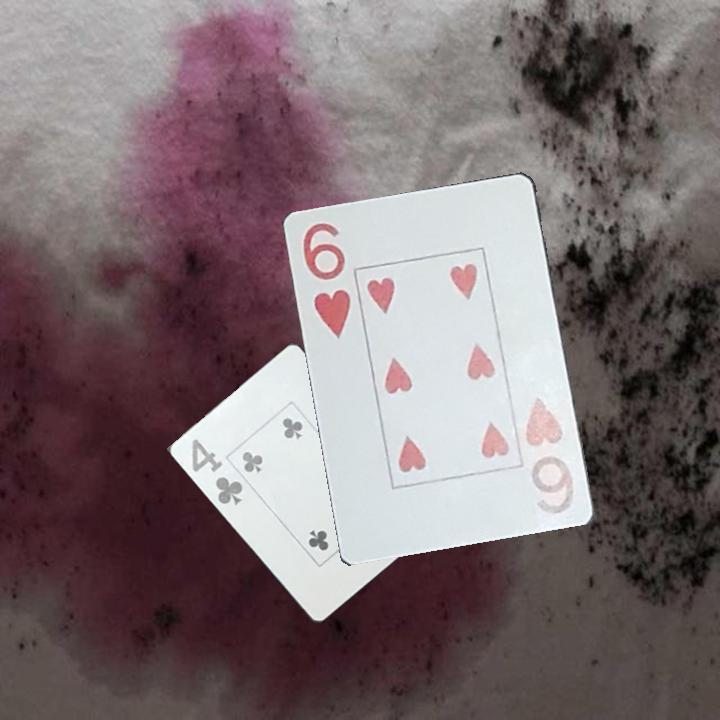4c: (188, 435, 246, 509)
6h: (522, 391, 580, 518), (299, 219, 355, 342)
